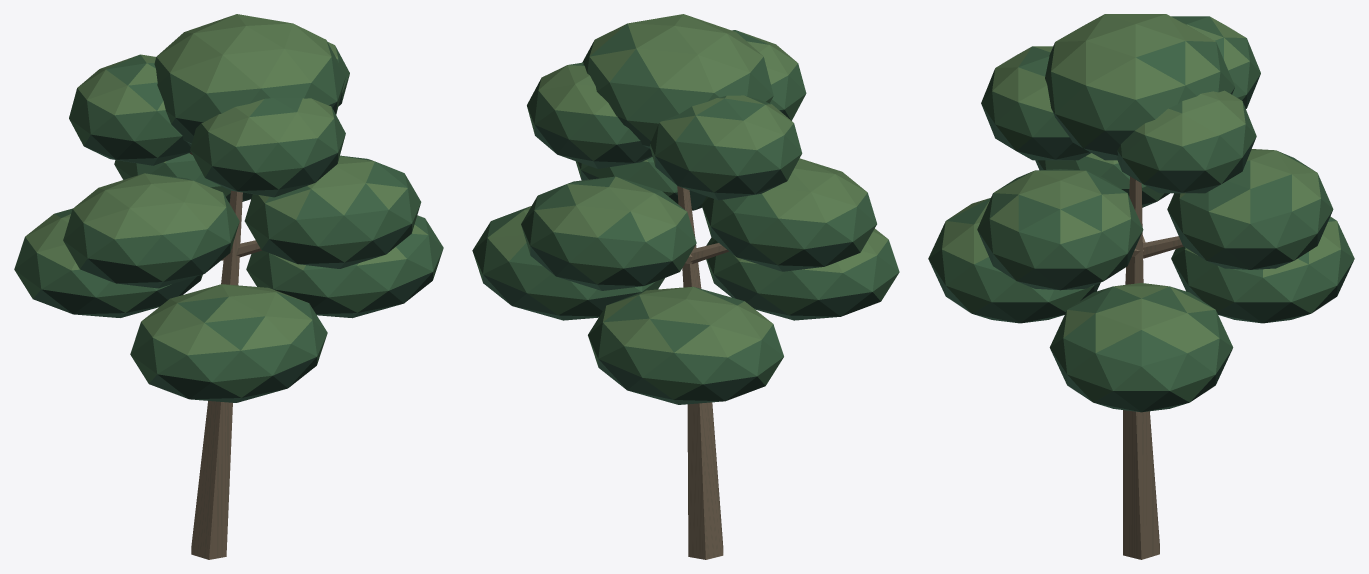
The model's file is SM_QD_Veg_BlackPine.fbx.
3 views of the same model, side by side, from view 1: azimuth 30°, elevation 25°; view 2: azimuth 150°, elevation 25°; view 3: azimuth 270°, elevation 25° (orthographic). The views are drawn at different scales.
Visible parts, largest first — view 1: SM_QD_Veg_BlackPine; view 2: SM_QD_Veg_BlackPine; view 3: SM_QD_Veg_BlackPine.
Boxes of the visible parts, bbox=[...] form: SM_QD_Veg_BlackPine: bbox=[14, 14, 443, 559]; SM_QD_Veg_BlackPine: bbox=[472, 14, 899, 559]; SM_QD_Veg_BlackPine: bbox=[928, 14, 1354, 559].
Size of the model in its own units: 4.6 by 4.41 by 6.21.
1 material, 1 textured.
